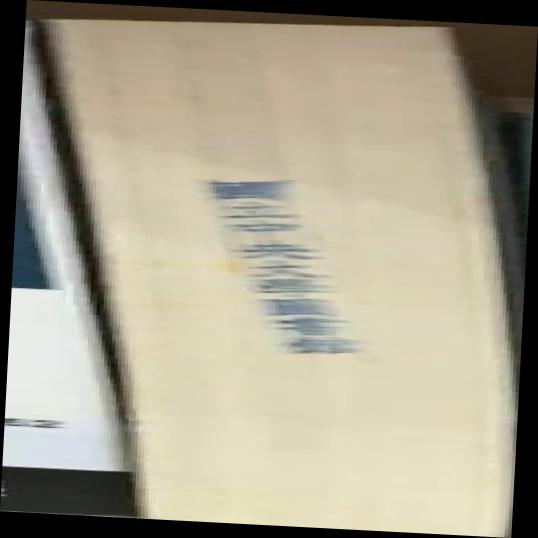backward: (1, 1, 535, 538)
